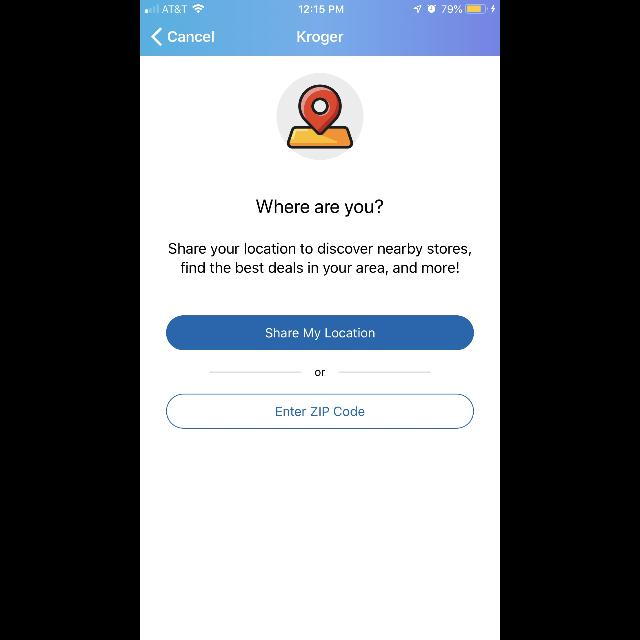icon: (152, 28, 162, 46)
image: (276, 74, 364, 160)
text: (169, 242, 471, 276), (256, 200, 384, 217), (298, 31, 344, 45), (168, 31, 214, 43), (315, 370, 325, 376)
textbutton: (166, 316, 474, 350), (166, 394, 474, 428)
uppertaskbar: (140, 0, 500, 14)
